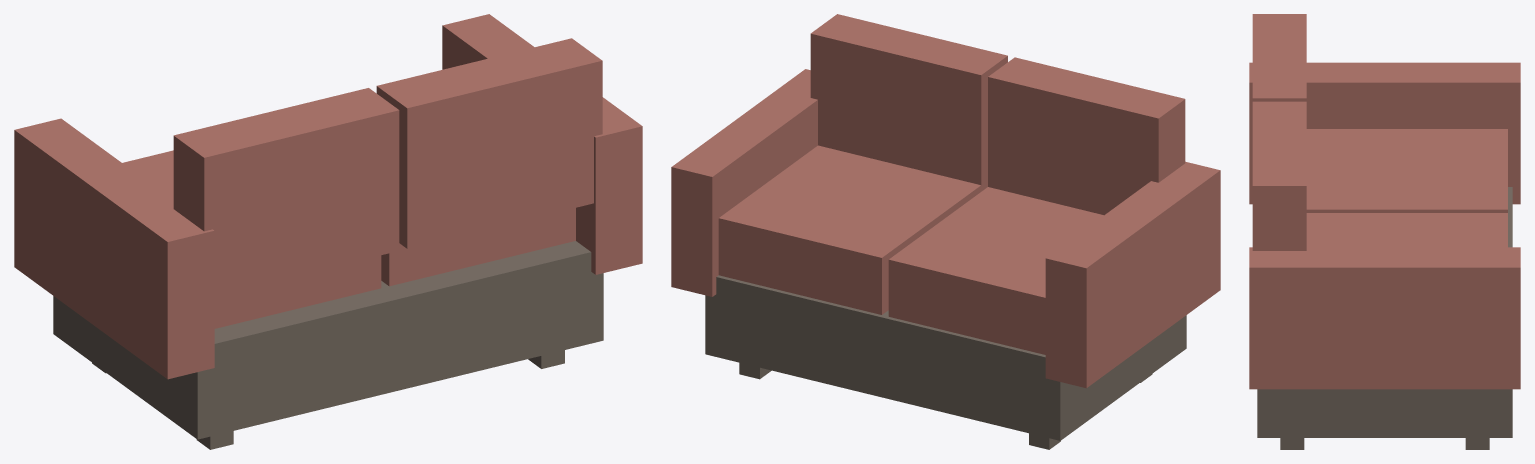
Rendered from sofa_two_seat.glb.
3 renders of one model, left to right at view 1: azimuth 30°, elevation 25°; view 2: azimuth 150°, elevation 25°; view 3: azimuth 270°, elevation 25°, orthographic. The views are drawn at different scales.
Parts seen in each view (by area): view 1: body; view 2: body; view 3: body.
Boxes of the visible parts, x1,y1,x2,y2 form: body: (14, 14, 642, 449); body: (671, 14, 1220, 449); body: (1249, 14, 1520, 449).
Bounding box in the file's own units: 1.52 × 0.945 × 0.85.
